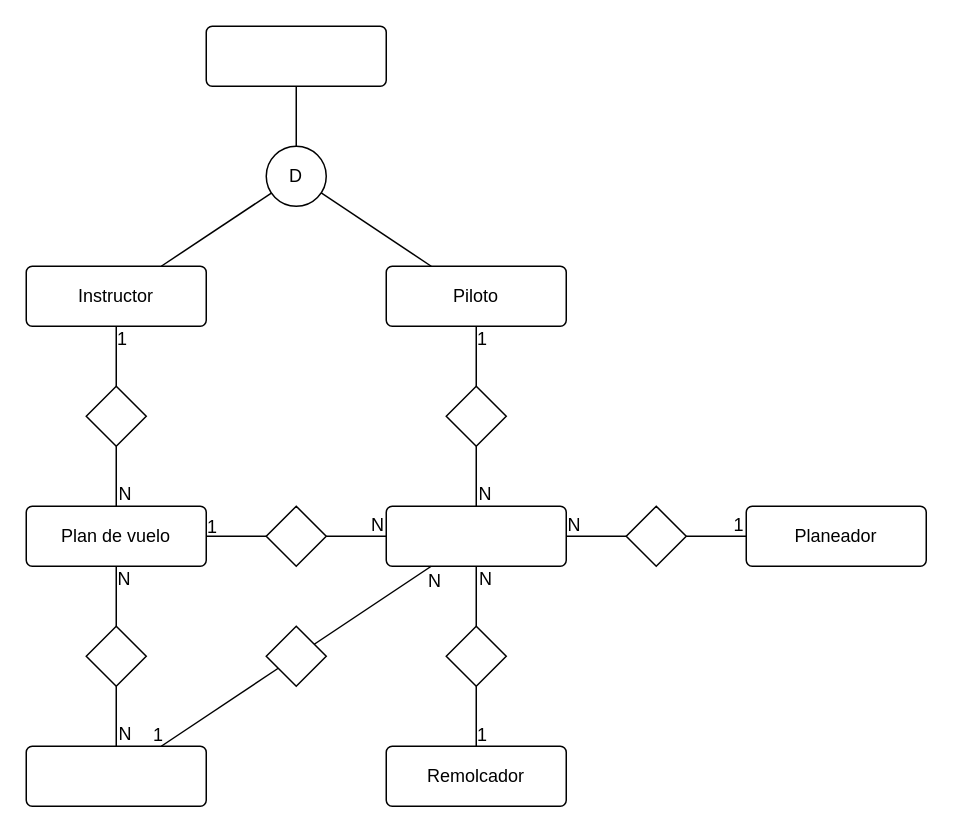
Image size: 953x833. Some labels were removed from this diagram. The centre of each missing label's shape, as x and y in pixels:
"Actividad" goes at (x=475, y=535).
"Piloto Remolcador" goes at (x=115, y=775).
"usuario" goes at (x=295, y=55).
